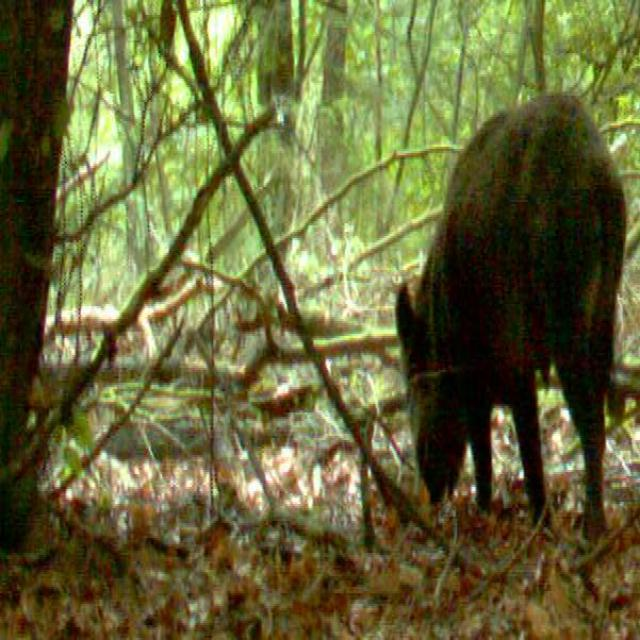pig: (384, 17, 640, 606)
